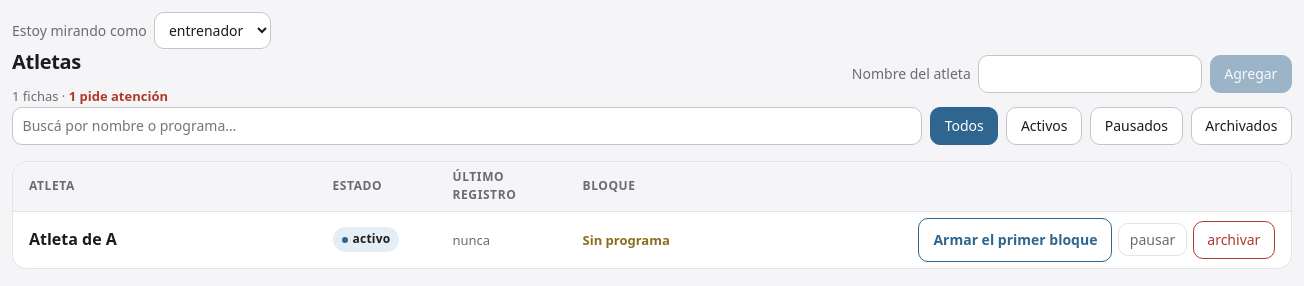
Test: la pantalla de entrada depende del rol › como atleta NO ofrece las acciones del entrenador
Select "atleta" in the dropdown: x=212, y=31 [154,12,270,49]
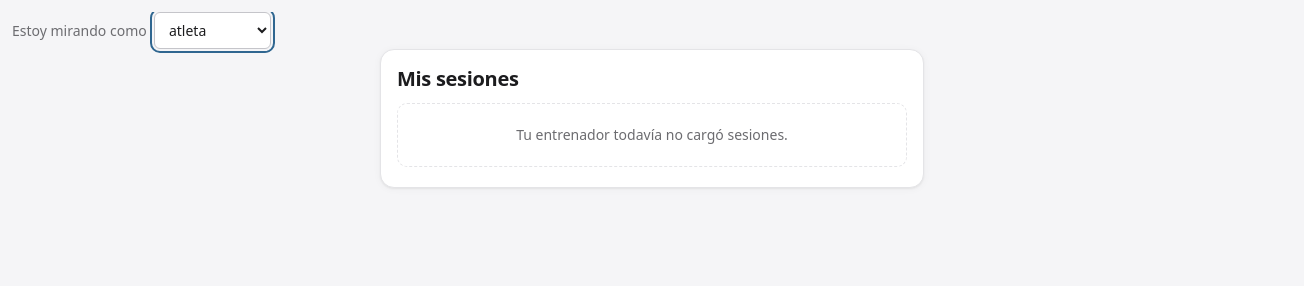
Expected: the button "Agregar" is gone
Expected: the button "archivar" is gone
Expected: the heading "Mis sesiones" is shown, [397,65,519,92]
